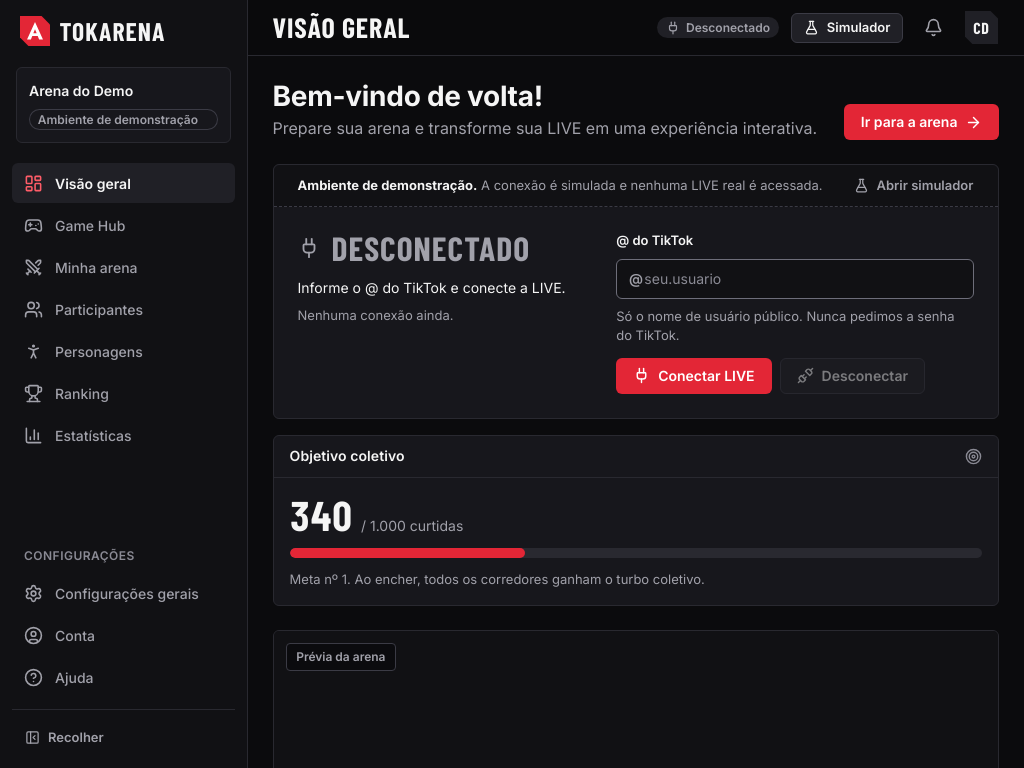
Test: visão geral e conexão simulada › deixa claro que é demonstração e valida o @ antes de conectar
Check: the text "Ambiente de demonstração." is shown, box [298,177,477,193]
In the field labelled "@ do TikTok": (795, 279) [616,259,974,299], type "x"
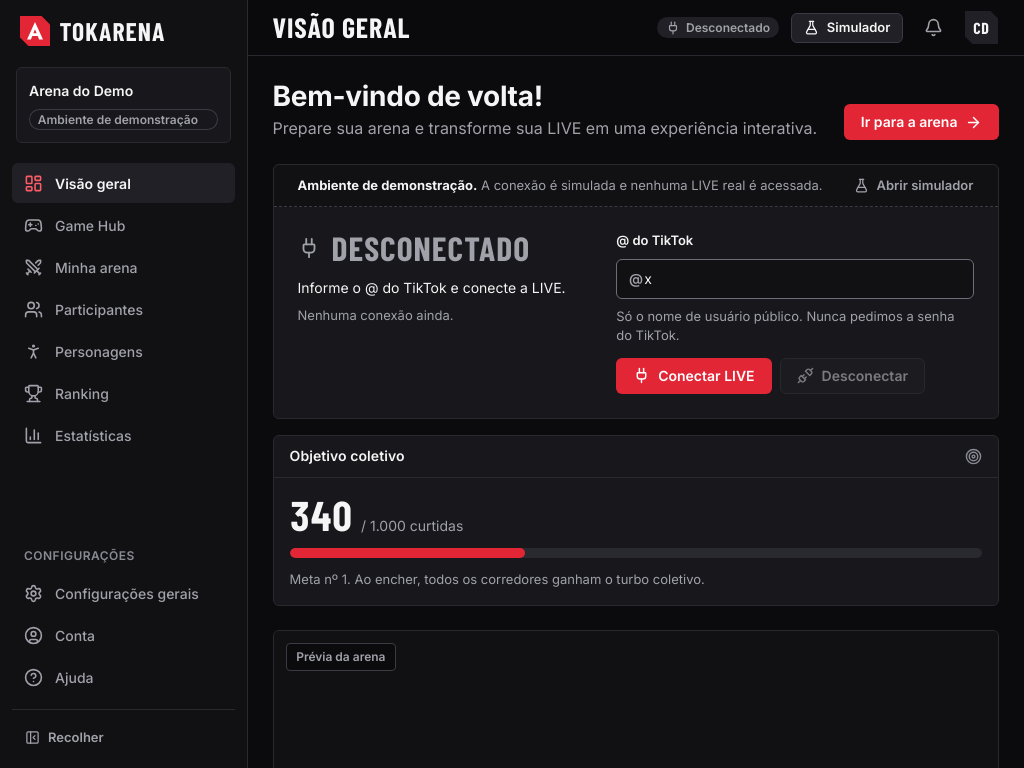
Click the button "Conectar LIVE": click(694, 376) [616,358,772,394]
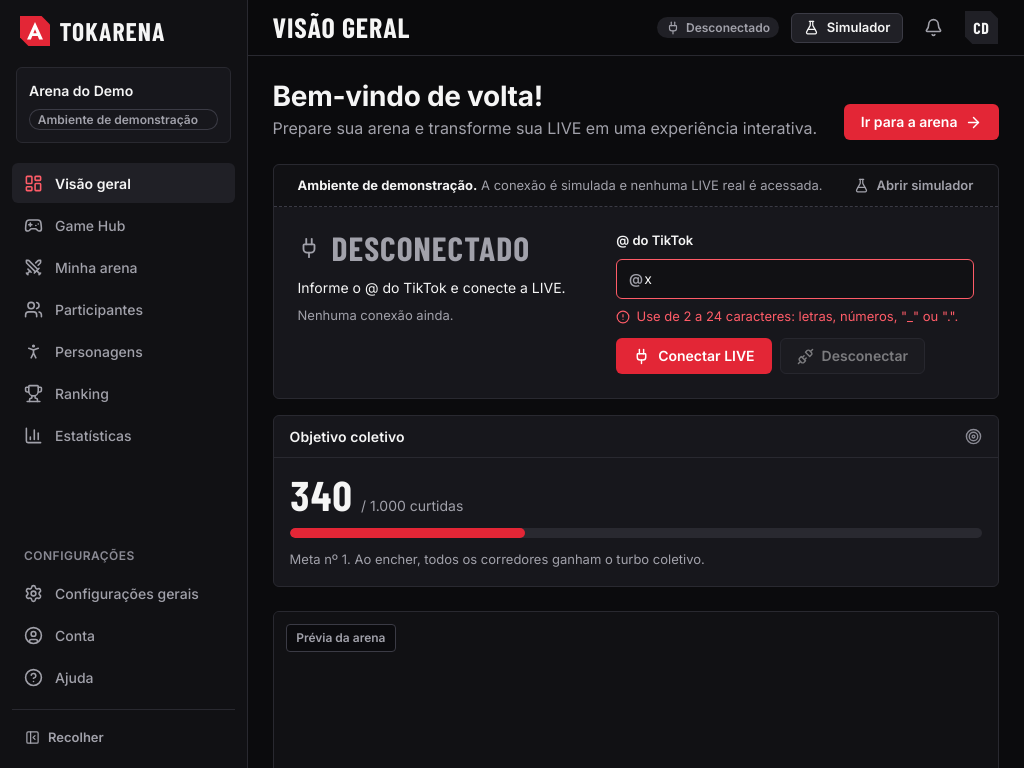
Check: the message "Use de 2 a 24 caracteres: letras, números, \"_\" ou \".\"." is shown, box [616,307,974,326]
